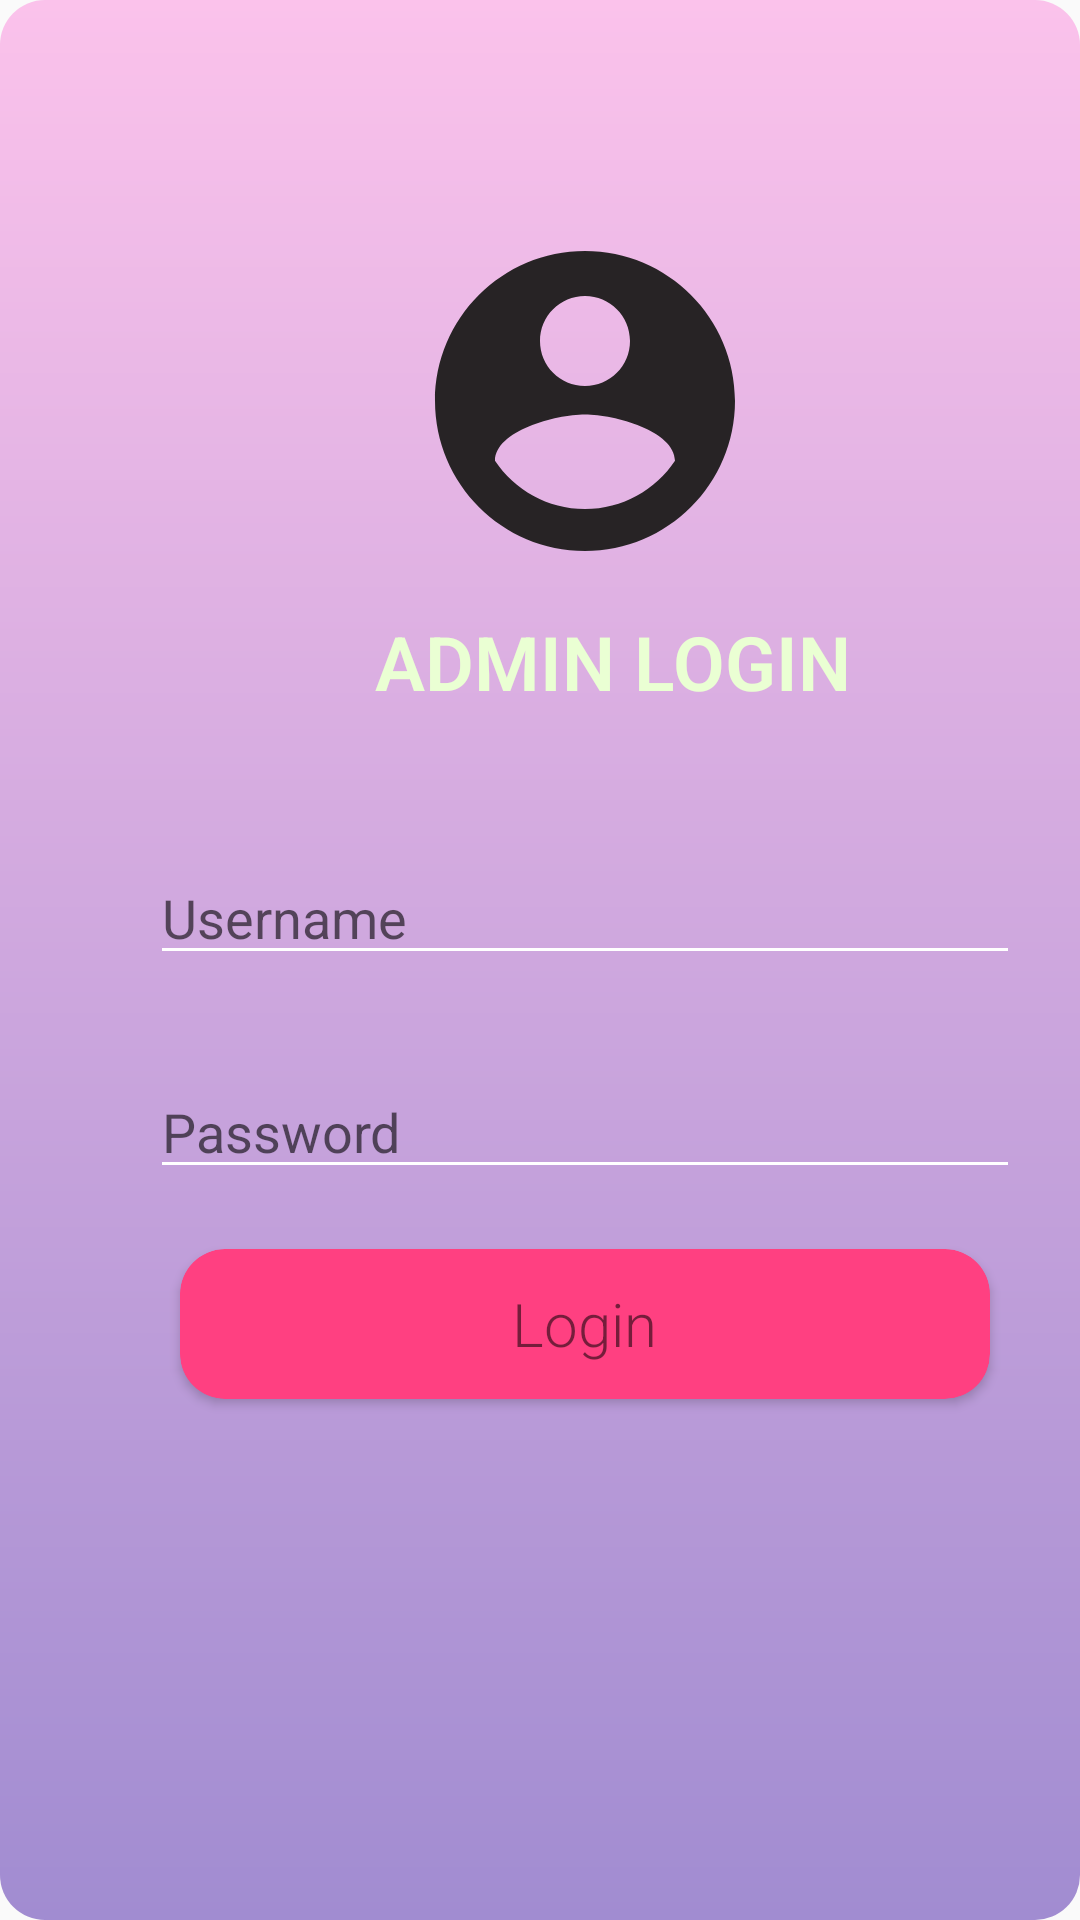

Where to tap for icons on this 1080×1920 app screen, as [x,y]:
account circle: [585,401]
